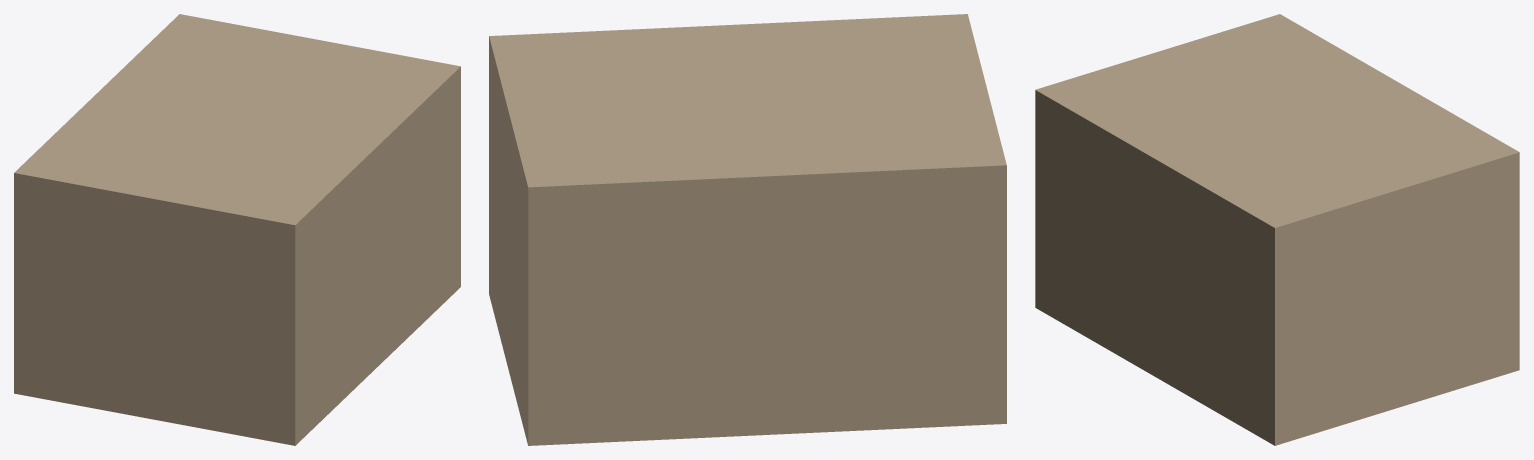
File: bld_101374728.dae
The picture shows the model from 3 angles, left to right: view 1: azimuth 30°, elevation 25°; view 2: azimuth 150°, elevation 25°; view 3: azimuth 270°, elevation 25°; orthographic projection. The views are drawn at different scales.
Parts seen in each view (by area): view 1: bld_101374728; view 2: bld_101374728; view 3: bld_101374728.
Boxes of the visible parts, left/top/right/bottom form: bld_101374728: left=14, top=14, right=460, bottom=445; bld_101374728: left=489, top=14, right=1006, bottom=445; bld_101374728: left=1035, top=14, right=1519, bottom=445.
Bounding box in the file's own units: 16.86 × 16.13 × 8.
